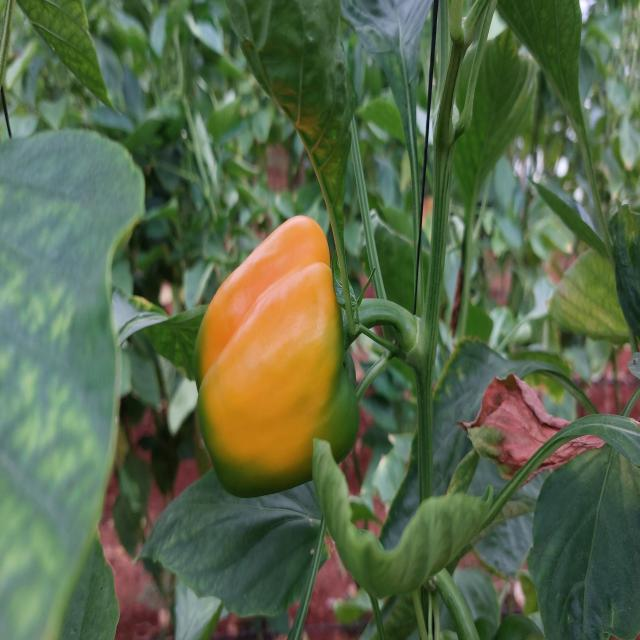Yellow-Ready-to-Harvest: (203, 210, 334, 472)
